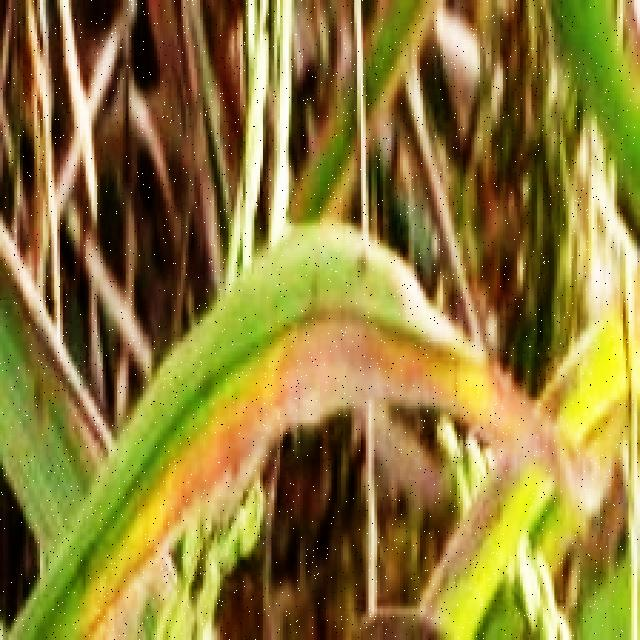unhealth: (0, 214, 622, 590)
